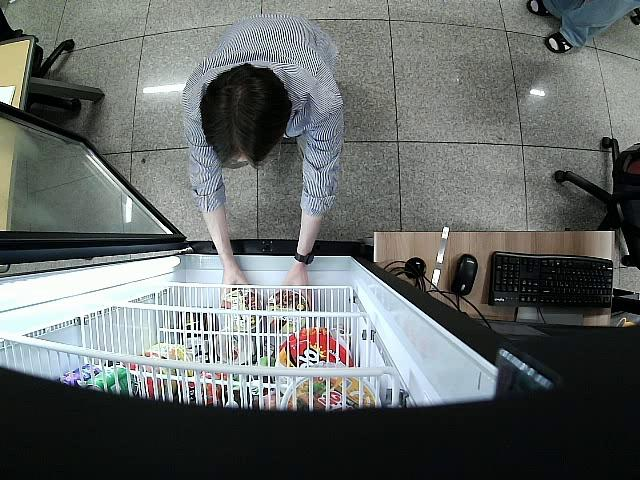00_hand: (278, 273, 314, 305), (221, 268, 250, 299)
03_chapagetti_L: (269, 292, 315, 335), (225, 288, 265, 330)
